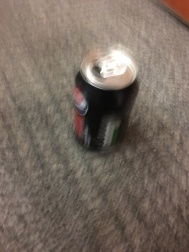can_black: (68, 39, 144, 161)
